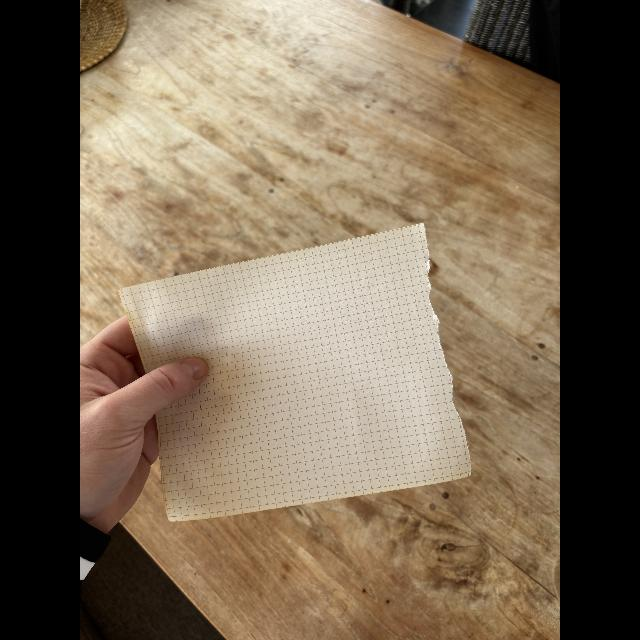Paper: (117, 220, 475, 522)
